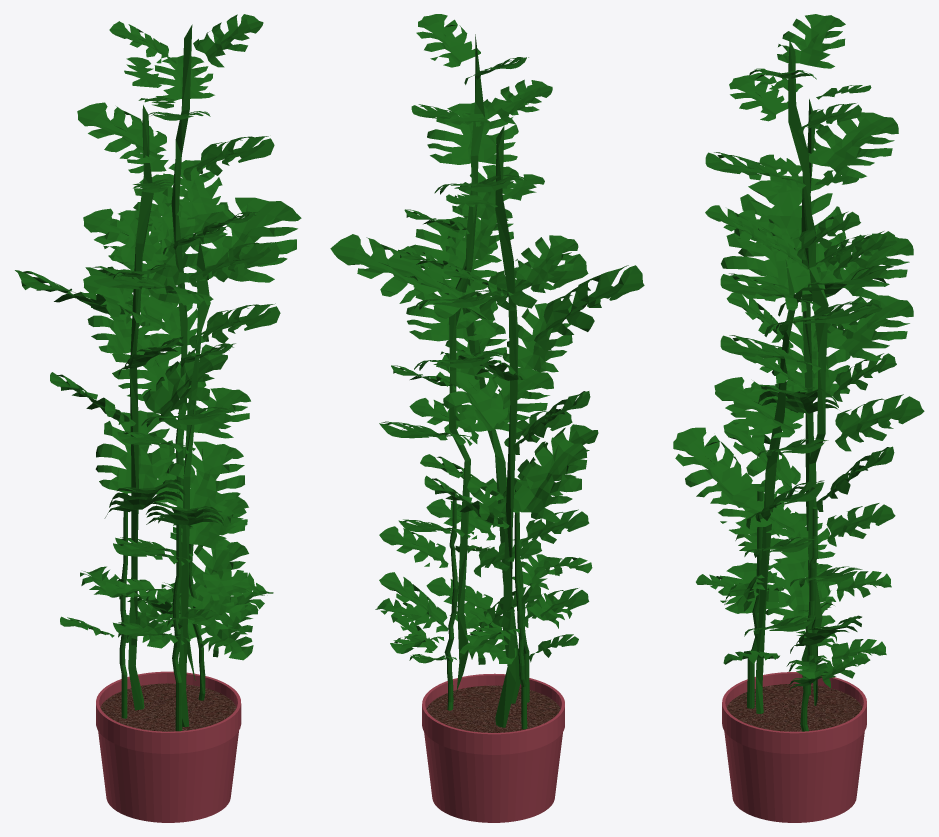
File: tree.dae
The picture shows the model from 3 angles, left to right: view 1: azimuth 30°, elevation 25°; view 2: azimuth 150°, elevation 25°; view 3: azimuth 270°, elevation 25°; orthographic projection.
Visible parts, largest first — view 1: gre (×47), pot (×2), boil; view 2: gre (×47), pot (×2), boil; view 3: gre (×53), pot (×2), boil.
Boxes of the visible parts, <box> form: gre (×47): <box>15,14,301,731</box>; pot (×2): <box>96,671,241,822</box>; boil: <box>100,683,236,731</box>; gre (×47): <box>330,14,644,729</box>; pot (×2): <box>422,673,564,822</box>; boil: <box>426,685,560,732</box>; gre (×53): <box>673,14,924,731</box>; pot (×2): <box>722,672,866,822</box>; boil: <box>726,683,862,731</box>.
Bounding box in the file's own units: 16.55 × 12.56 × 42.31.
Materials: 3 (1 with a texture image).
